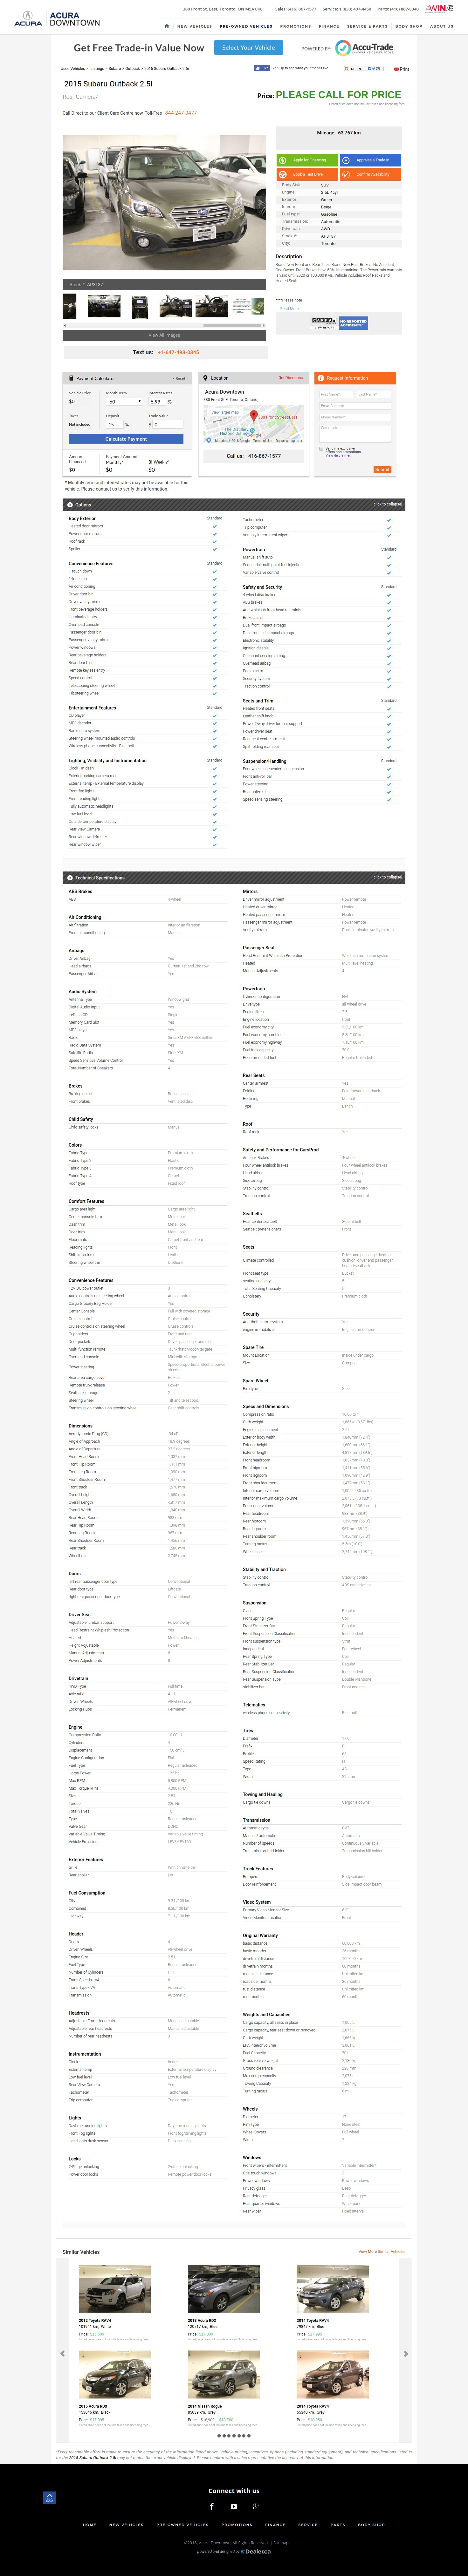car: (253, 196, 268, 210)
